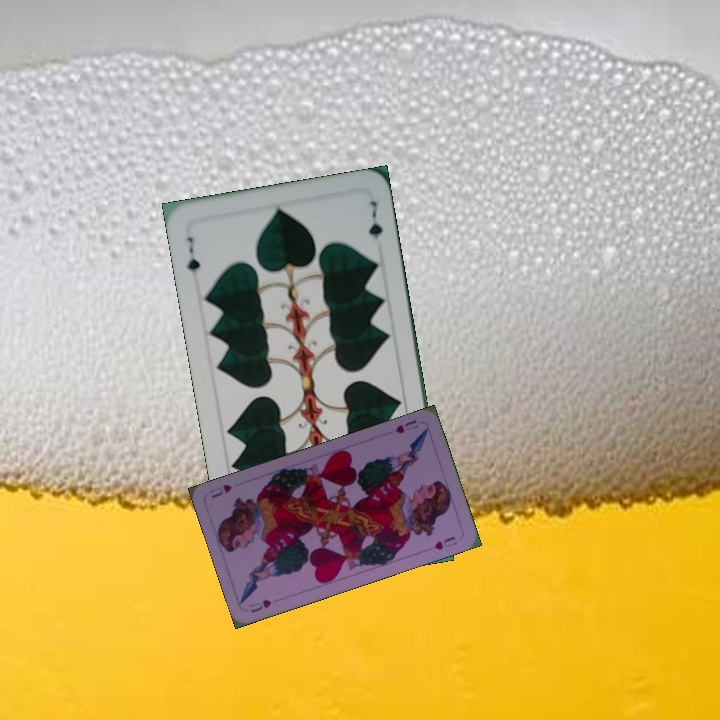G7: (182, 233, 203, 275)
HU: (391, 416, 421, 436), (245, 595, 274, 615)
